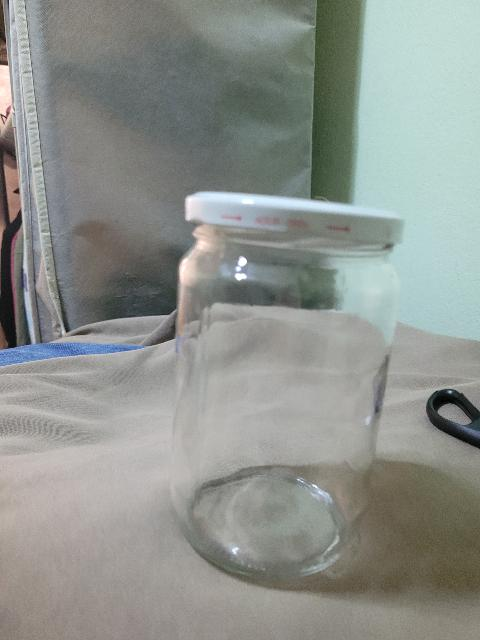Cam: (173, 252, 399, 585)
Metal: (183, 192, 420, 247)
